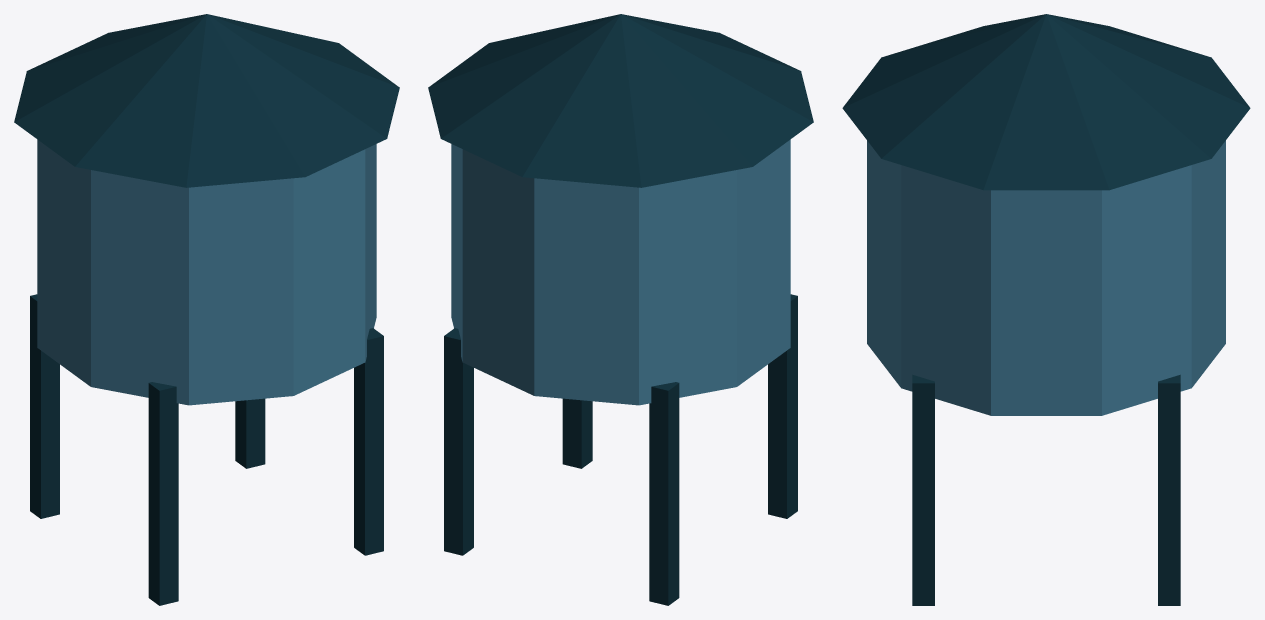
Rendered from water_tower.glb.
3 renders of one model, left to right at view 1: azimuth 30°, elevation 25°; view 2: azimuth 150°, elevation 25°; view 3: azimuth 270°, elevation 25°, orthographic. The views are drawn at different scales.
Visible parts, largest first — view 1: water_tower; view 2: water_tower; view 3: water_tower.
Boxes of the visible parts, x1,y1,x2,y2 form: water_tower: (14, 14, 399, 605); water_tower: (428, 14, 813, 605); water_tower: (842, 14, 1250, 605).
Bounding box in the file's own units: 2.05 × 3.12 × 2.16.
